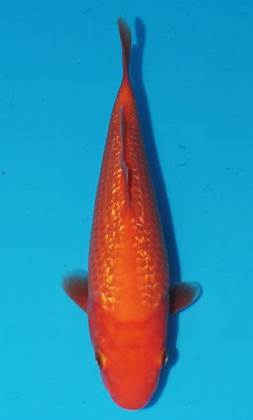red: (59, 17, 202, 411)
